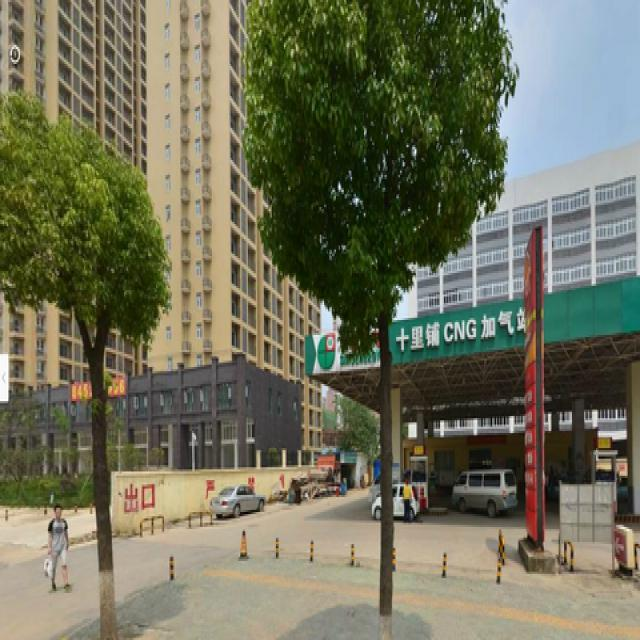cinn: (259, 6, 481, 612), (5, 104, 152, 602)
